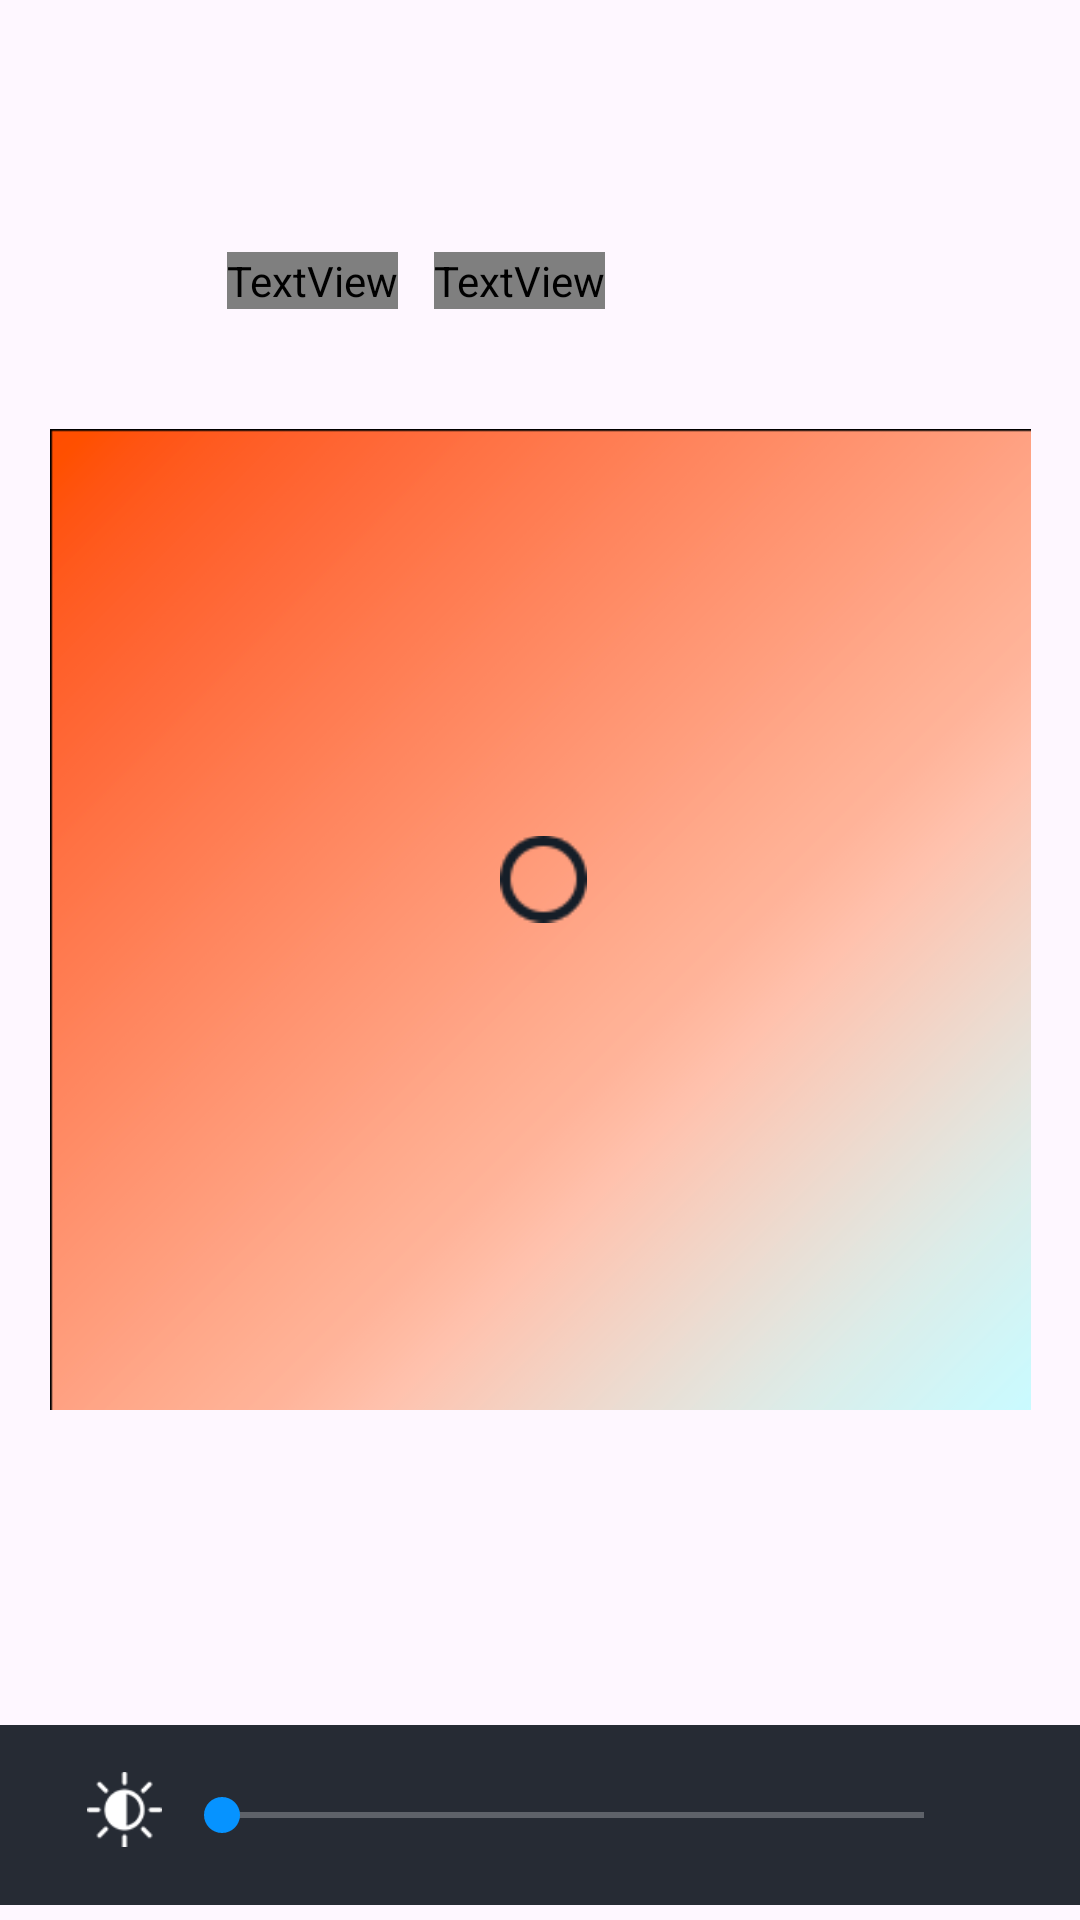

Named icons in this screenshot (1080x1920) and their centers, (x,y):
Указатель: (543,879)
Яркость: (124,1809)
